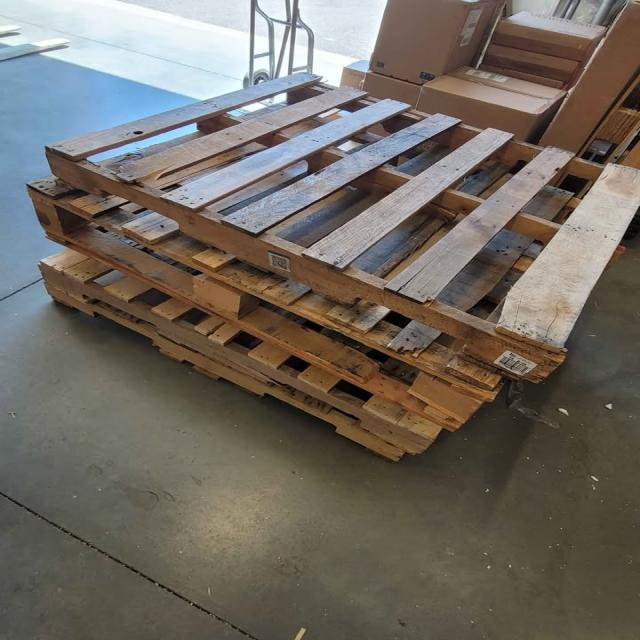non-igps: (35, 65, 640, 392), (23, 165, 514, 438), (32, 241, 448, 461), (40, 277, 409, 468)
